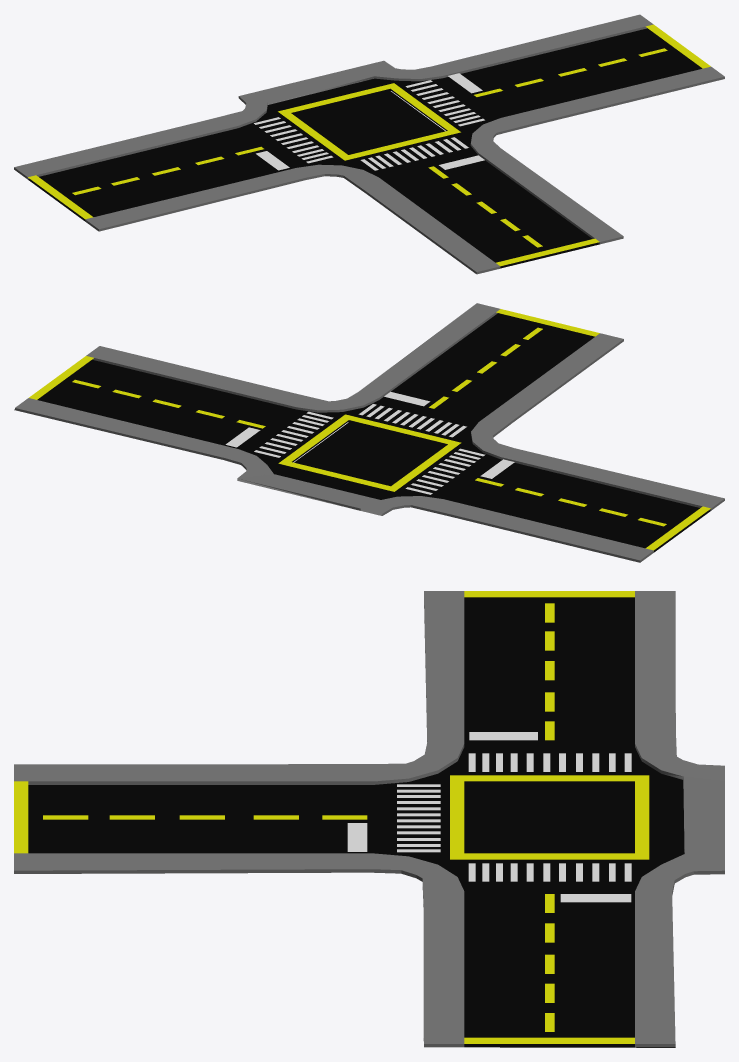
The model's file is Final Intersection V2.fbx.
The picture shows the model from 3 angles, top to bottom: view 1: azimuth 30°, elevation 25°; view 2: azimuth 150°, elevation 25°; view 3: azimuth 270°, elevation 25°; orthographic projection. The views are drawn at different scales.
Parts seen in each view (by area): view 1: polySurface421; view 2: polySurface421; view 3: polySurface421.
Part boxes in pixels (x1,y1,x2,y2): polySurface421: [14, 14, 724, 274]; polySurface421: [14, 303, 724, 562]; polySurface421: [14, 591, 724, 1047].
Size of the model in its own units: 52.8 by 0.1978 by 34.99.
